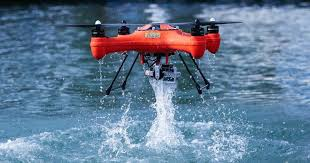Drone: (53, 11, 254, 113)
